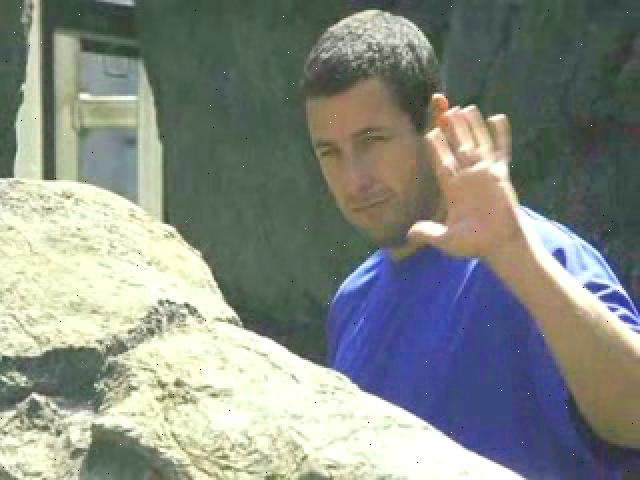L: (288, 2, 640, 480)
